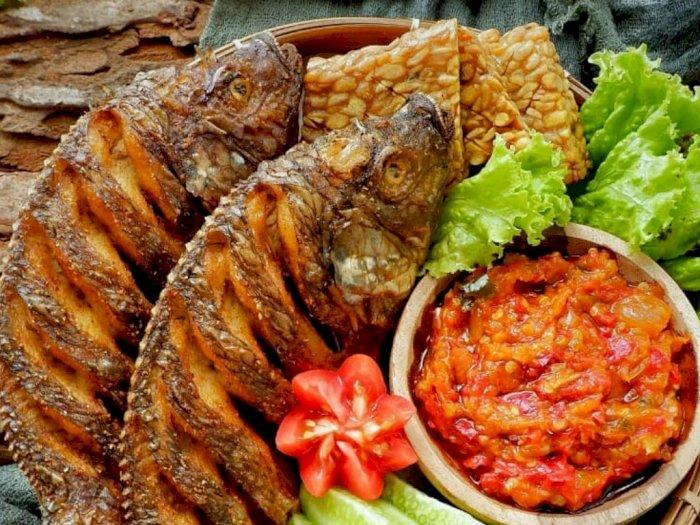buah_sayur_lainnya: (613, 90, 682, 219), (446, 190, 534, 243)
buah_sayur_vitA: (474, 295, 641, 449), (294, 378, 379, 465)
daging: (243, 176, 378, 345), (32, 184, 131, 384)
kacang_legume: (320, 55, 448, 103), (470, 47, 540, 128)
